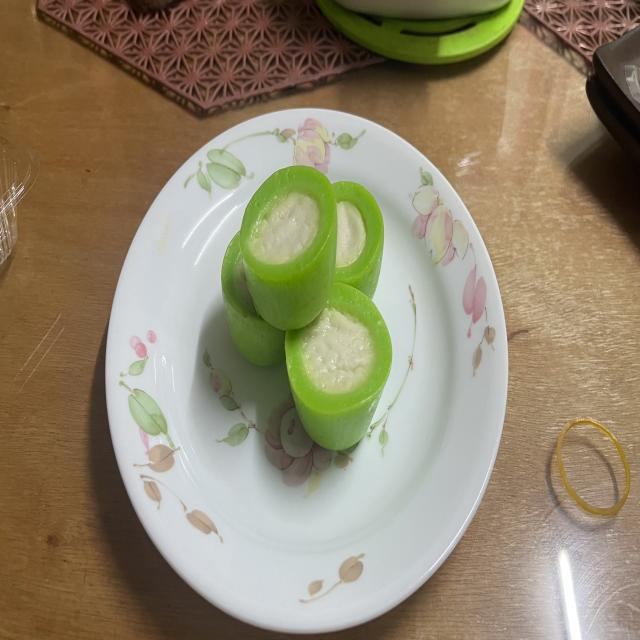nona-manis: (285, 282, 392, 451), (239, 167, 338, 329), (221, 233, 285, 367), (332, 182, 384, 298)
